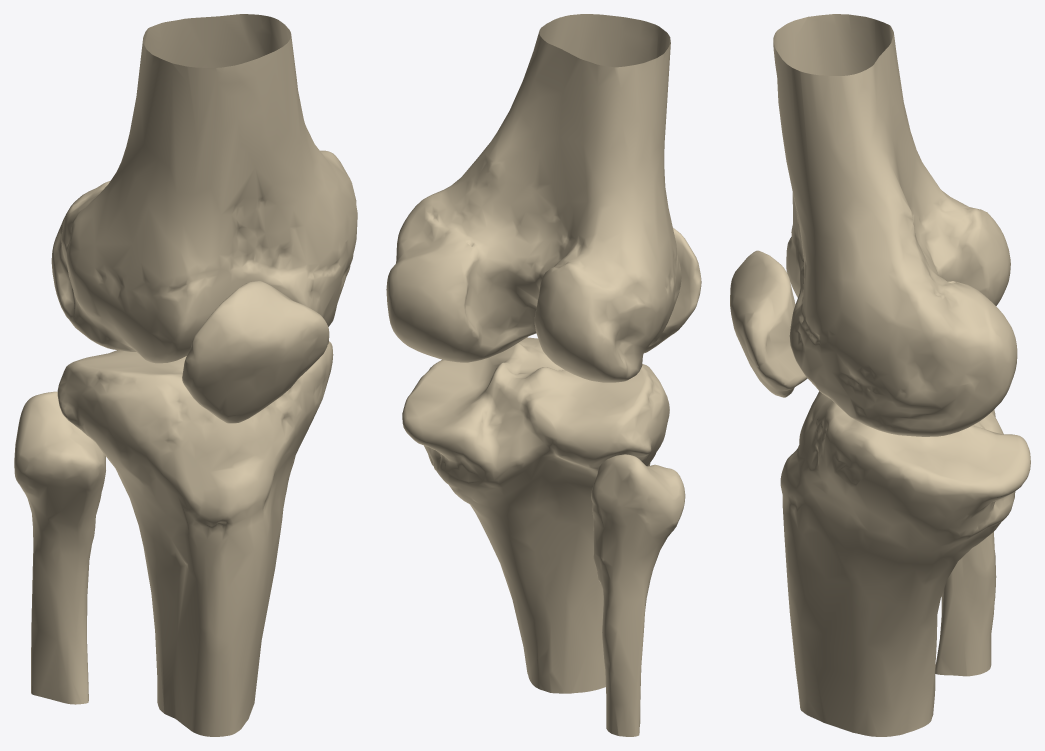
The model's file is knee.glb.
3 views of the same model, side by side, from view 1: azimuth 30°, elevation 25°; view 2: azimuth 150°, elevation 25°; view 3: azimuth 270°, elevation 25° (orthographic). The views are drawn at different scales.
Visible parts, largest first — view 1: FMA24474, FMA24477, FMA24480, FMA24486; view 2: FMA24474, FMA24477, FMA24480, FMA24486; view 3: FMA24474, FMA24477, FMA24486, FMA24480.
Boxes of the visible parts, box(x1,y1,x2,y2) form: FMA24474: box(51, 14, 357, 363); FMA24477: box(57, 341, 333, 736); FMA24480: box(14, 391, 105, 704); FMA24486: box(182, 281, 329, 423); FMA24474: box(386, 14, 681, 382); FMA24477: box(402, 337, 669, 693); FMA24480: box(591, 454, 685, 736); FMA24486: box(644, 228, 701, 353); FMA24474: box(773, 14, 1017, 436); FMA24477: box(780, 391, 1030, 736); FMA24486: box(730, 250, 807, 397); FMA24480: box(935, 410, 996, 676).
Size of the model in its own units: 1.59 by 3.3 by 1.35.
